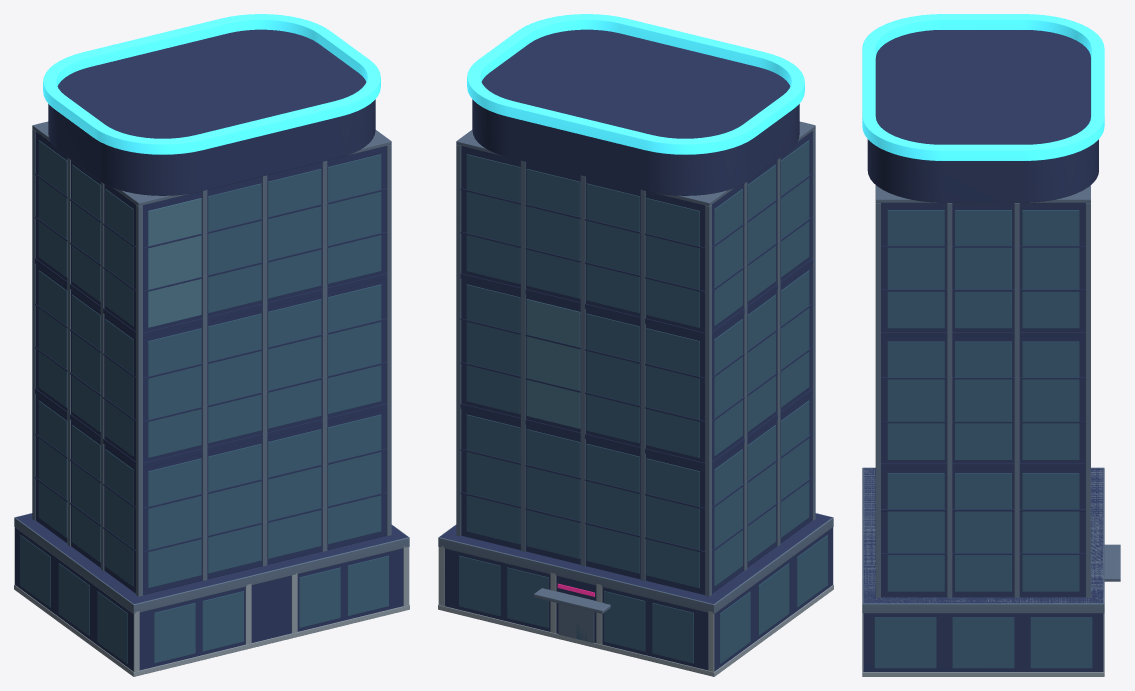
File: d04_towers_03.glb
3 renders of one model, left to right at view 1: azimuth 30°, elevation 25°; view 2: azimuth 150°, elevation 25°; view 3: azimuth 270°, elevation 25°, orthographic.
Parts seen in each view (by area): view 1: D04Towers03_Facade, D04Towers03_Crown, D04Towers03_Lobby; view 2: D04Towers03_Facade, D04Towers03_Crown, D04Towers03_Lobby; view 3: D04Towers03_Facade, D04Towers03_Crown, D04Towers03_Lobby.
Boxes of the visible parts, left/top/right/bottom form: D04Towers03_Facade: left=32, top=129, right=391, bottom=596; D04Towers03_Crown: left=32, top=14, right=391, bottom=206; D04Towers03_Lobby: left=14, top=513, right=409, bottom=676; D04Towers03_Facade: left=456, top=129, right=815, bottom=596; D04Towers03_Crown: left=456, top=14, right=815, bottom=206; D04Towers03_Lobby: left=438, top=513, right=833, bottom=676; D04Towers03_Facade: left=875, top=203, right=1090, bottom=597; D04Towers03_Crown: left=862, top=14, right=1104, bottom=202; D04Towers03_Lobby: left=862, top=467, right=1120, bottom=676.
Size of the model in its own units: 24 by 43.2 by 19.2.
